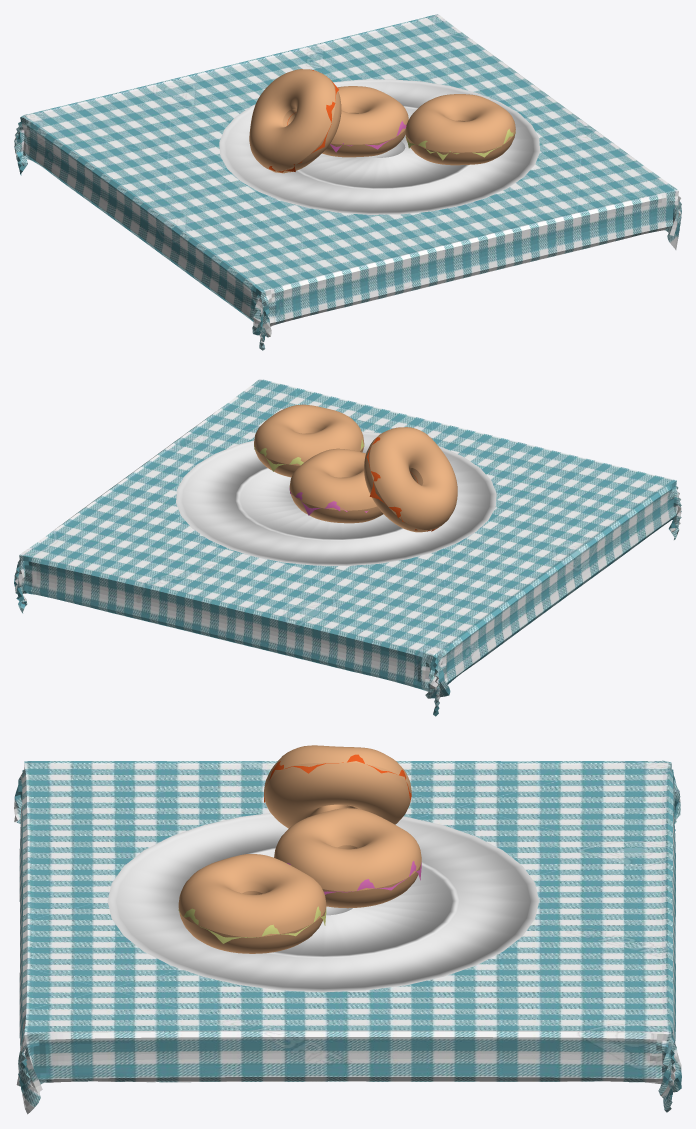
Rendered from donnut.glb.
3 views of the same model, one above another, from view 1: azimuth 30°, elevation 25°; view 2: azimuth 150°, elevation 25°; view 3: azimuth 270°, elevation 25° (orthographic). The views are drawn at different scales.
Parts seen in each view (by area): view 1: Plane, Cylinder, Torus.005, Torus.003, Torus.001; view 2: Plane, Cylinder, Torus.005, Torus.003, Torus.001; view 3: Plane, Cylinder, Torus.003, Torus.001, Torus.005, Torus.004.
Part boxes in pixels (bbox=[...]): Plane: bbox=[14, 14, 681, 350]; Cylinder: bbox=[219, 79, 540, 214]; Torus.005: bbox=[249, 69, 341, 173]; Torus.003: bbox=[405, 94, 515, 165]; Torus.001: bbox=[322, 86, 408, 157]; Plane: bbox=[14, 379, 681, 716]; Cylinder: bbox=[176, 431, 496, 566]; Torus.005: bbox=[364, 427, 457, 532]; Torus.003: bbox=[254, 404, 364, 477]; Torus.001: bbox=[289, 448, 383, 523]; Plane: bbox=[14, 760, 681, 1114]; Cylinder: bbox=[107, 813, 539, 992]; Torus.003: bbox=[178, 854, 326, 953]; Torus.001: bbox=[274, 808, 421, 908]; Torus.005: bbox=[264, 745, 411, 828]; Torus.004: bbox=[178, 906, 326, 943].
Bounding box in the file's own units: 11.7 × 3.92 × 11.65.
5 materials, 1 textured.
